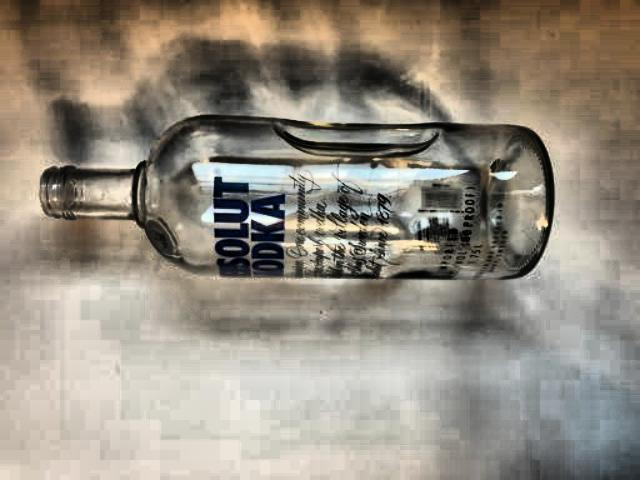Bottles: (33, 104, 562, 292)
